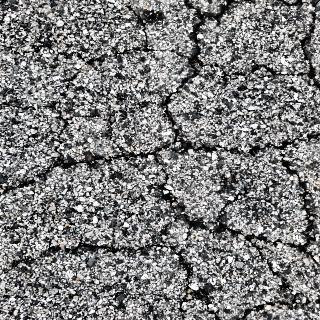alligator-crack: (8, 5, 316, 312)
